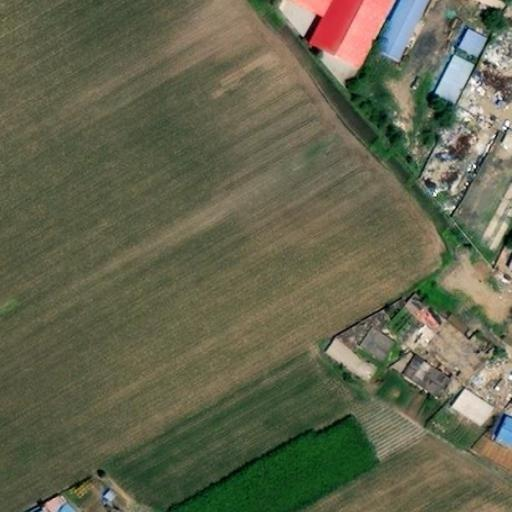building: (264, 0, 409, 92), (435, 48, 490, 116), (390, 305, 445, 362), (328, 351, 381, 399), (407, 370, 452, 410), (453, 401, 494, 438), (365, 343, 397, 373), (33, 490, 74, 512), (475, 0, 508, 20), (499, 428, 512, 453)
